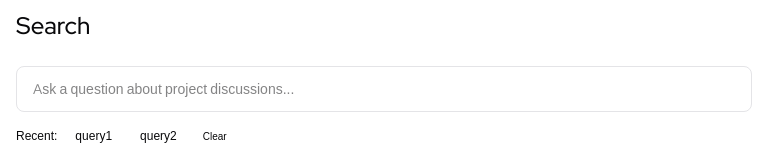
Test: SearchPage › search history (AC 8) › clear button removes all history
This screenshot has width=769, height=165.
expect the button "query1" is shown: met, box [65, 124, 122, 148]
Click the button "Clear" at (215, 136), box [195, 124, 235, 148]
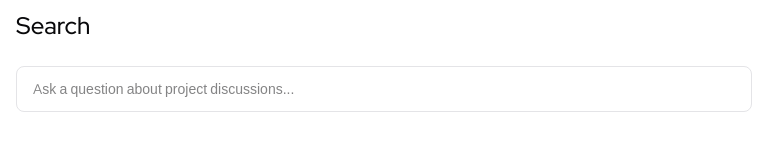
expect the button "query1" is gone: met
expect the button "query2" is gone: met
